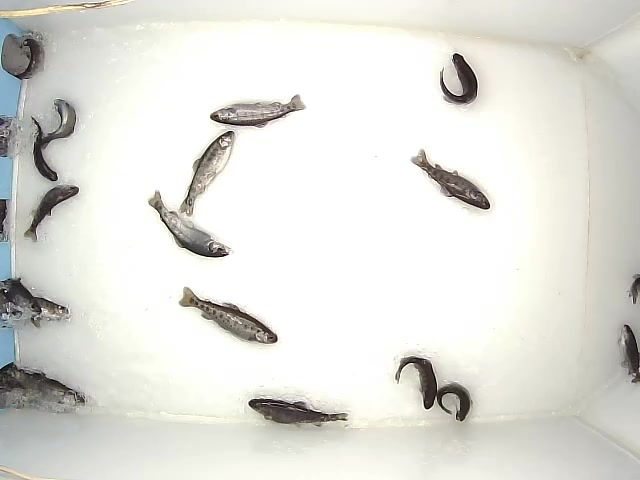fish: (147, 189, 234, 259), (178, 286, 278, 345), (409, 148, 491, 210), (178, 130, 236, 217), (22, 182, 80, 243), (209, 93, 307, 129), (247, 397, 350, 429), (394, 354, 437, 410), (439, 52, 479, 106), (38, 97, 77, 149), (29, 114, 58, 182), (7, 38, 46, 81), (437, 381, 474, 422), (617, 324, 640, 385)
